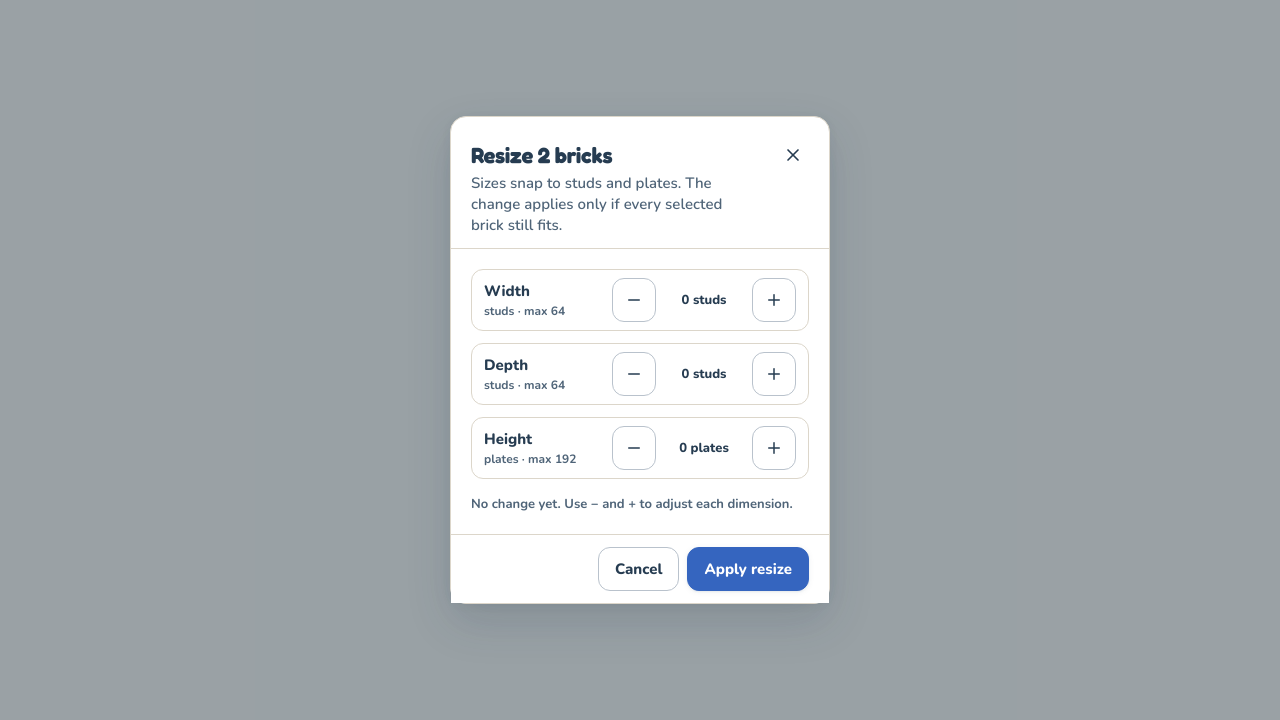
it: ResizeBrickSheet › shows the host’s real rejection message inline and clears it on the next adjustment
Click the button named "Increase width" at x=774, y=300, box x1=752 y1=278 x2=796 y2=322
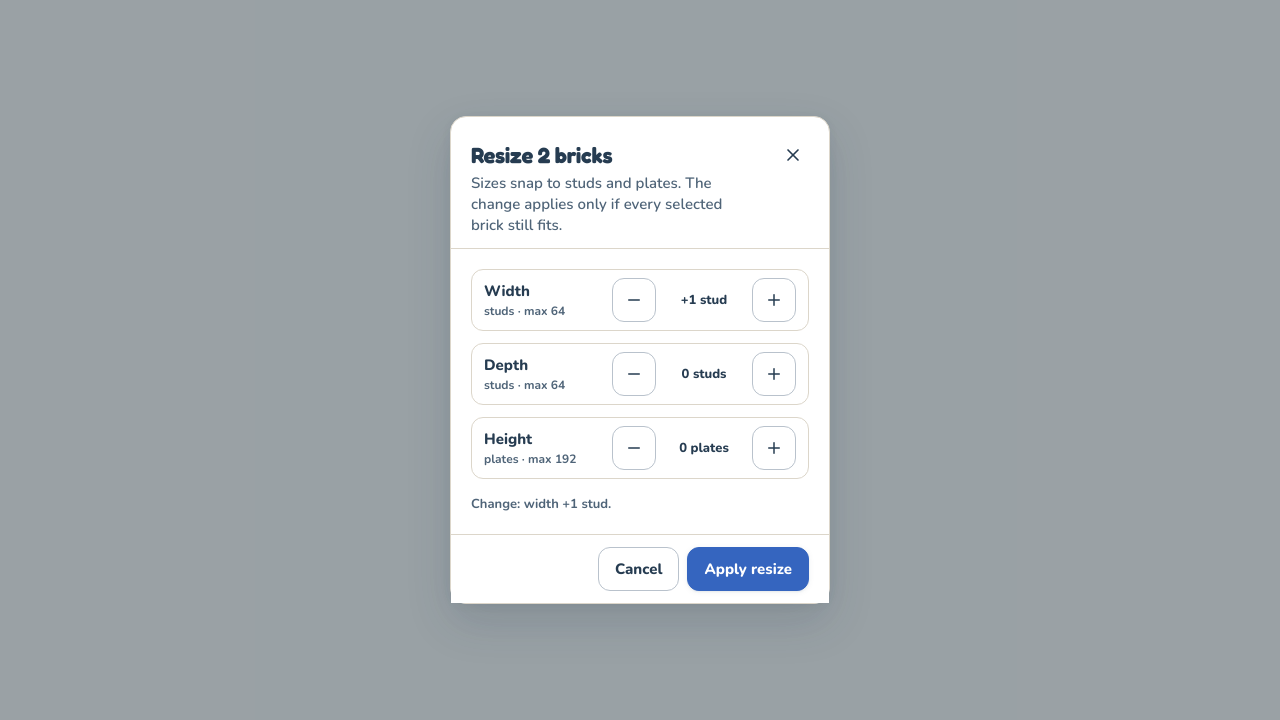
Click the button "Apply resize" at x=748, y=569, box x1=687 y1=547 x2=809 y2=591
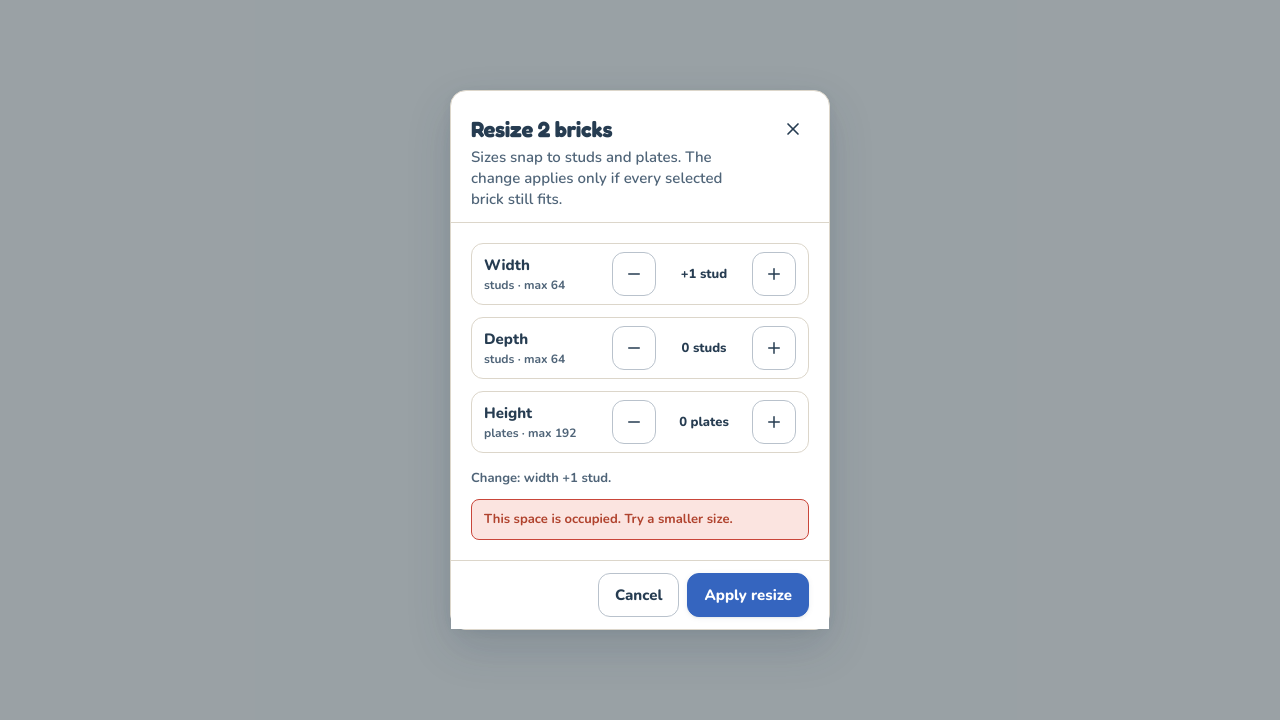
Check: the message reads "This space is occupied. Try a smaller size.", box x1=484 y1=510 x2=733 y2=528
Click the button named "Decrease width" at x=634, y=274, box x1=612 y1=252 x2=656 y2=296
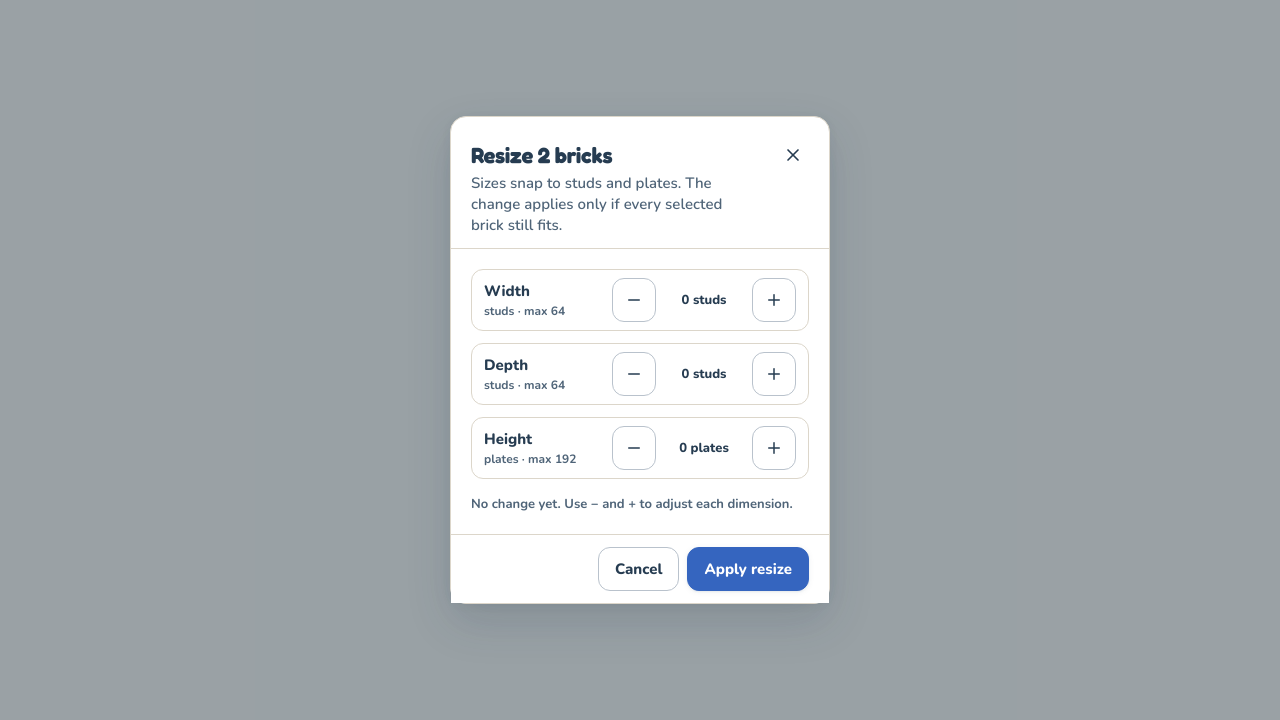
Check: the message "This space is occupied. Try a smaller size." is gone
